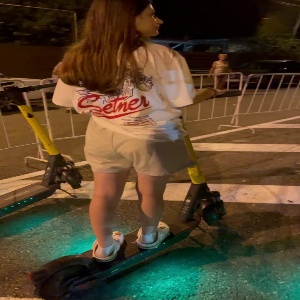human on a scooter: (22, 1, 241, 298)
